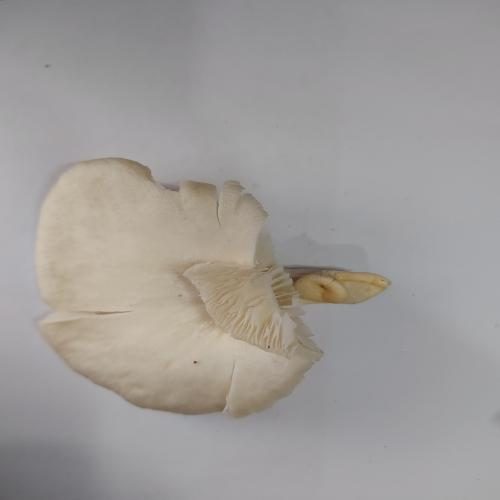Oyster Mushroom: (34, 156, 392, 419)
